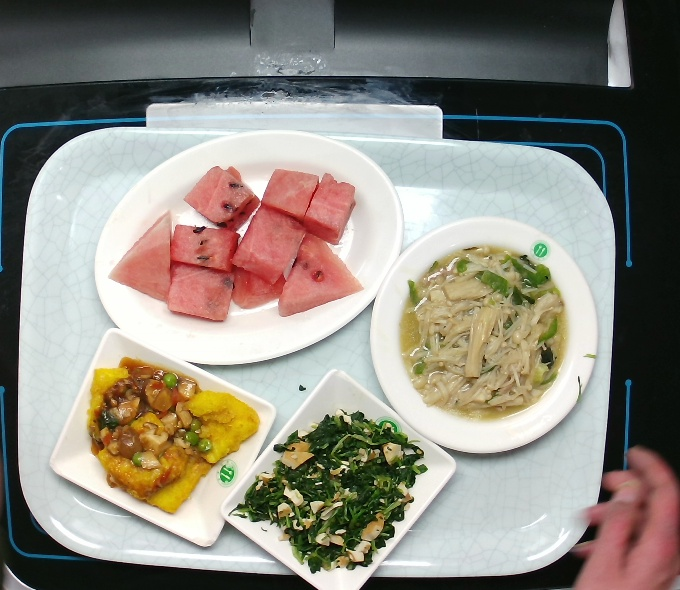wcq-CuiPiDouFu: (87, 355, 263, 515)
wcq-JinZhenGu: (397, 242, 569, 419)
wcq-MaLanTouChaoDouGan: (241, 407, 426, 570)
wcq-XiGua: (107, 160, 366, 323)
